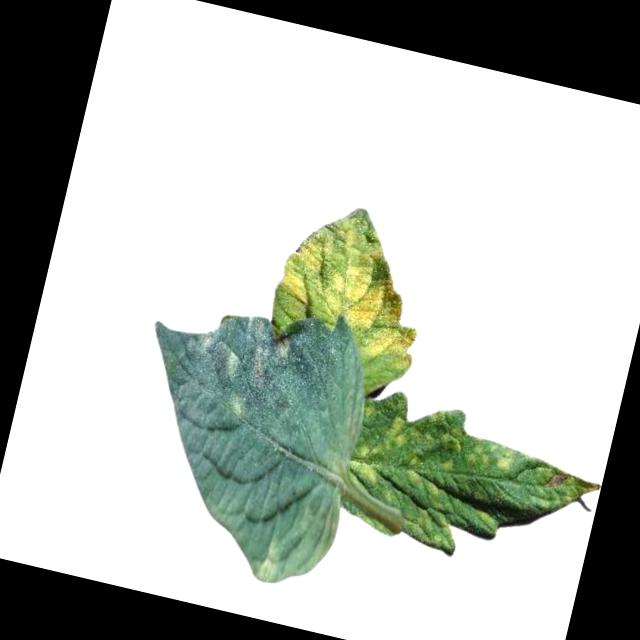Leaf_Mold: (329, 382, 612, 583), (262, 191, 444, 374), (173, 304, 296, 426), (249, 473, 347, 596)
